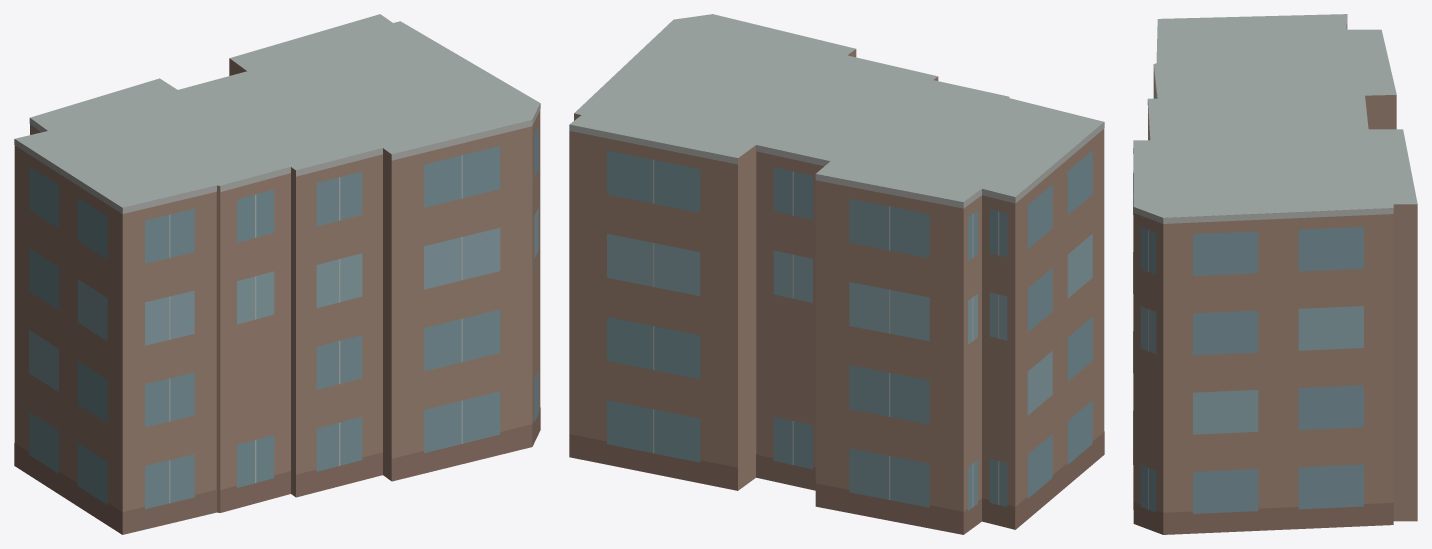
File: survey-upis-32632099.glb
The picture shows the model from 3 angles, left to right: view 1: azimuth 30°, elevation 25°; view 2: azimuth 150°, elevation 25°; view 3: azimuth 270°, elevation 25°; orthographic projection. The views are drawn at different scales.
Visible parts, largest first — view 1: survey-upis-32632099.tmp; view 2: survey-upis-32632099.tmp; view 3: survey-upis-32632099.tmp.
Part boxes in pixels (<box>): survey-upis-32632099.tmp: <box>14,14,540,534</box>; survey-upis-32632099.tmp: <box>569,14,1104,534</box>; survey-upis-32632099.tmp: <box>1133,14,1417,534</box>.
Size of the model in its own units: 17.53 by 12.7 by 10.34.
